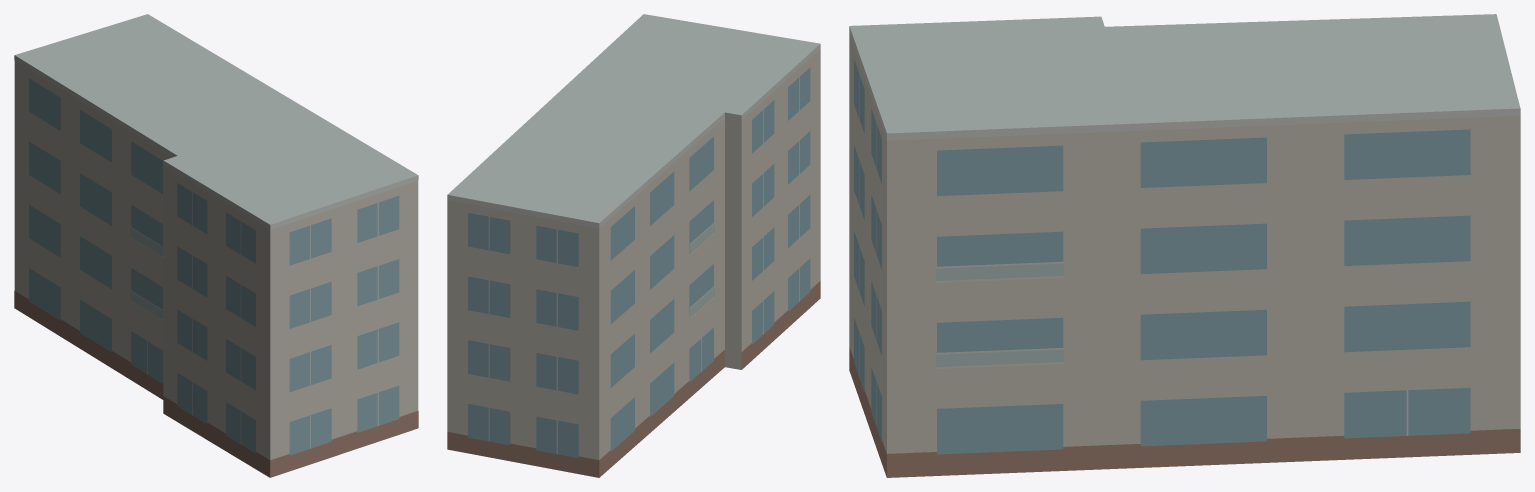
The model's file is survey-upis-32663088.glb.
The picture shows the model from 3 angles, left to right: view 1: azimuth 30°, elevation 25°; view 2: azimuth 150°, elevation 25°; view 3: azimuth 270°, elevation 25°; orthographic projection. The views are drawn at different scales.
Visible parts, largest first — view 1: survey-upis-32663088.tmp; view 2: survey-upis-32663088.tmp; view 3: survey-upis-32663088.tmp.
Boxes of the visible parts, <box> form: survey-upis-32663088.tmp: <box>14,14,418,477</box>; survey-upis-32663088.tmp: <box>447,14,820,477</box>; survey-upis-32663088.tmp: <box>849,14,1520,477</box>.
Size of the model in its own units: 8.75 by 11.75 by 20.76.
